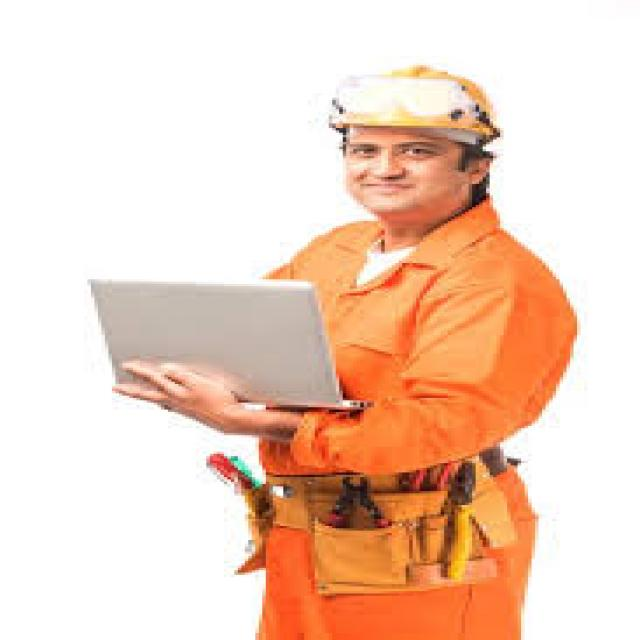Reflective-Jacket: (231, 202, 584, 502)
Safety-Helmet: (318, 58, 511, 144)
